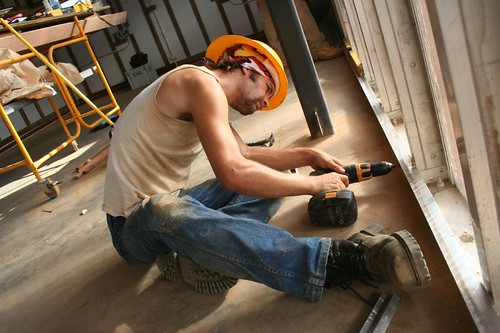person hardhat: (97, 34, 435, 290)
